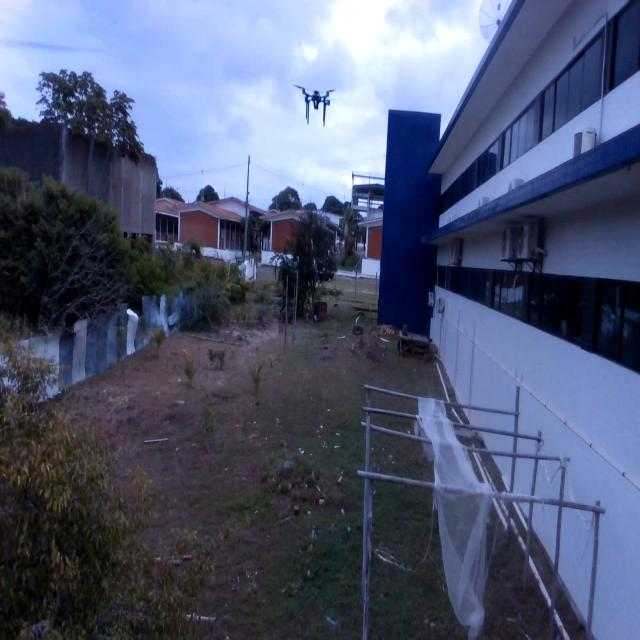-uav-: (289, 68, 346, 130)
